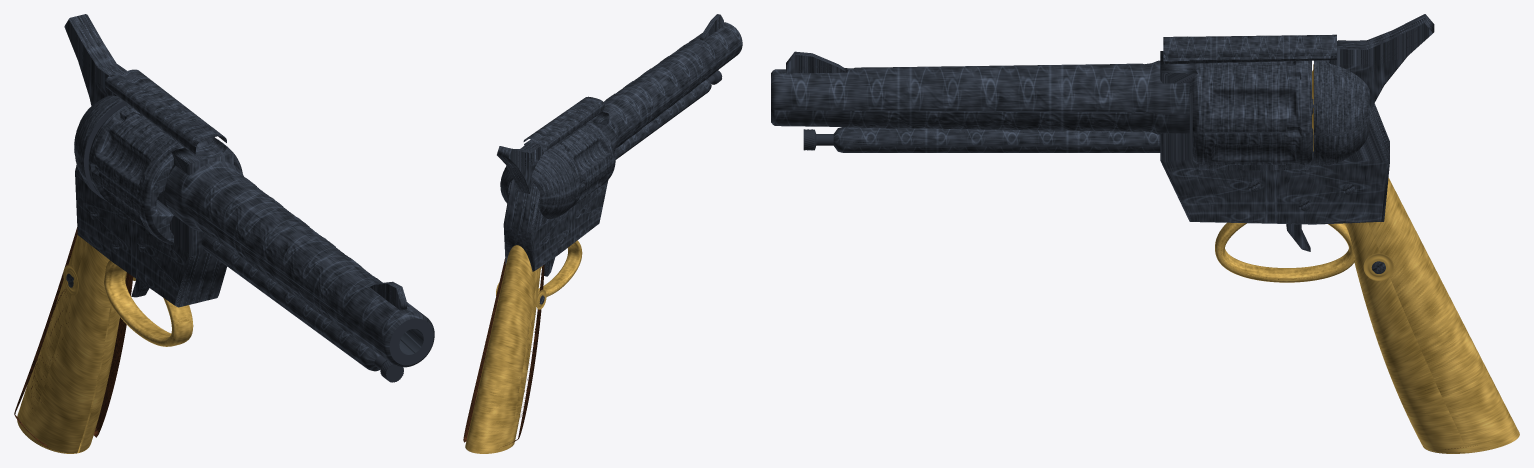
Rendered from engraved_revolver — 雕刻左轮 GLB.glb.
3 views of the same model, side by side, from view 1: azimuth 30°, elevation 25°; view 2: azimuth 150°, elevation 25°; view 3: azimuth 270°, elevation 25° (orthographic). The views are drawn at different scales.
Parts seen in each view (by area): view 1: barrel, brass_furniture, frame, cylinder, ejector, hammer, walnut_grips, front_sight; view 2: brass_furniture, frame, barrel, cylinder, ejector, walnut_grips, hammer, front_sight; view 3: barrel, frame, brass_furniture, cylinder, ejector, hammer, front_sight.
Boxes of the visible parts, left/top/right/bottom form: barrel: left=165, top=161, right=434, bottom=367; brass_furniture: left=17, top=235, right=193, bottom=453; frame: left=74, top=69, right=233, bottom=307; cylinder: left=88, top=104, right=242, bottom=244; ejector: left=201, top=233, right=403, bottom=382; hammer: left=64, top=14, right=127, bottom=106; walnut_grips: left=14, top=227, right=133, bottom=448; front_sight: left=370, top=281, right=406, bottom=310; brass_furniture: left=465, top=240, right=582, bottom=453; frame: left=500, top=96, right=609, bottom=271; barrel: left=602, top=22, right=742, bottom=150; cylinder: left=550, top=120, right=615, bottom=208; ejector: left=614, top=70, right=722, bottom=159; walnut_grips: left=463, top=258, right=544, bottom=446; hammer: left=497, top=142, right=543, bottom=193; front_sight: left=699, top=14, right=723, bottom=40; barrel: left=771, top=60, right=1189, bottom=134; frame: left=1160, top=34, right=1389, bottom=224; brass_furniture: left=1215, top=178, right=1519, bottom=453; cylinder: left=1192, top=57, right=1313, bottom=164; ejector: left=803, top=127, right=1160, bottom=152; hammer: left=1329, top=14, right=1434, bottom=108; front_sight: left=786, top=51, right=847, bottom=73.
Bounding box in the file's own units: 0.0397 × 0.1604 × 0.254.
1 material, 1 textured.
